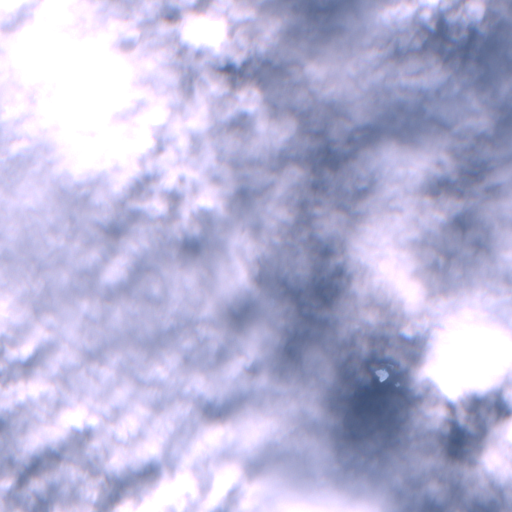Iceberg: (375, 369, 388, 382), (395, 382, 399, 386)
